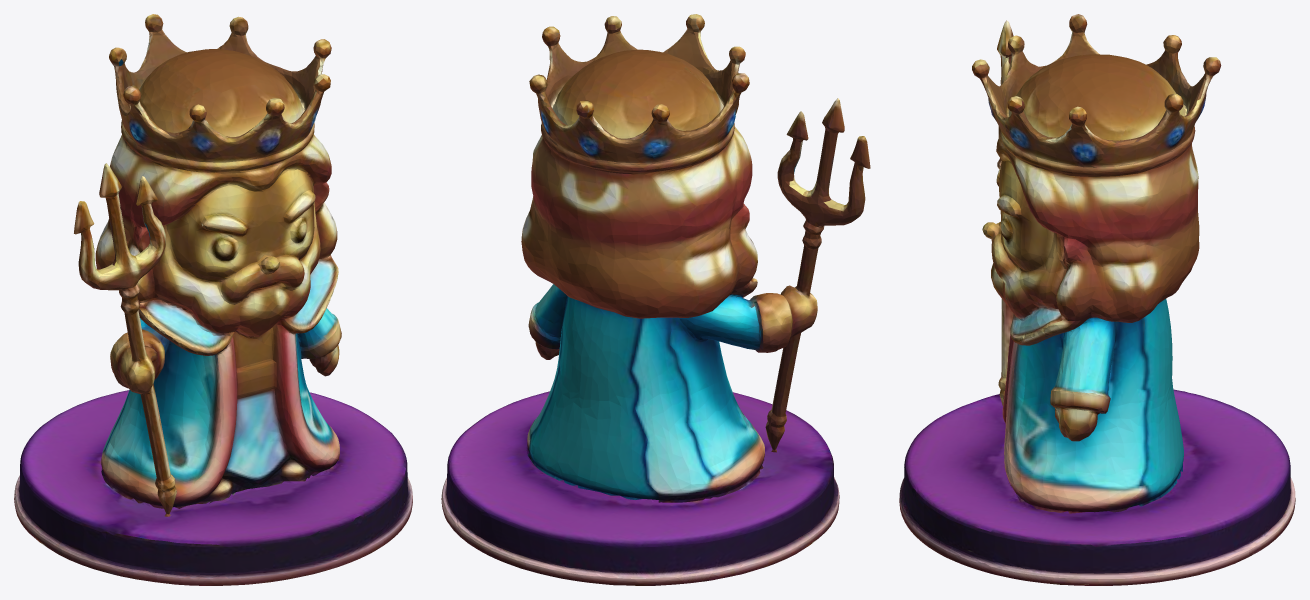
The model's file is fig-48.glb.
3 views of the same model, side by side, from view 1: azimuth 30°, elevation 25°; view 2: azimuth 150°, elevation 25°; view 3: azimuth 270°, elevation 25° (orthographic).
Visible parts, largest first — view 1: tmp2_kvirx3.ply; view 2: tmp2_kvirx3.ply; view 3: tmp2_kvirx3.ply.
Part boxes in pixels (x1=…): tmp2_kvirx3.ply: x1=14, y1=14, x2=412, y2=585; tmp2_kvirx3.ply: x1=441, y1=14, x2=870, y2=585; tmp2_kvirx3.ply: x1=899, y1=14, x2=1295, y2=585.
Bounding box in the file's own units: 1.67 × 1.99 × 1.61.
Materials: 1 (1 with a texture image).
